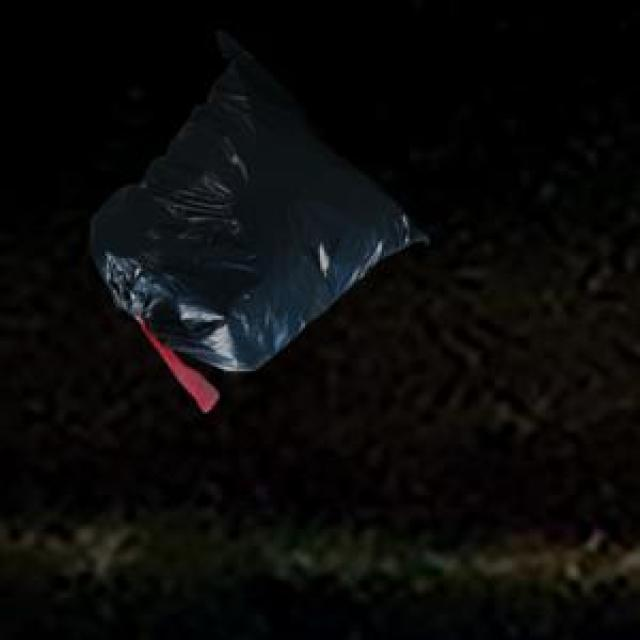Trashbag: (87, 25, 434, 376)
